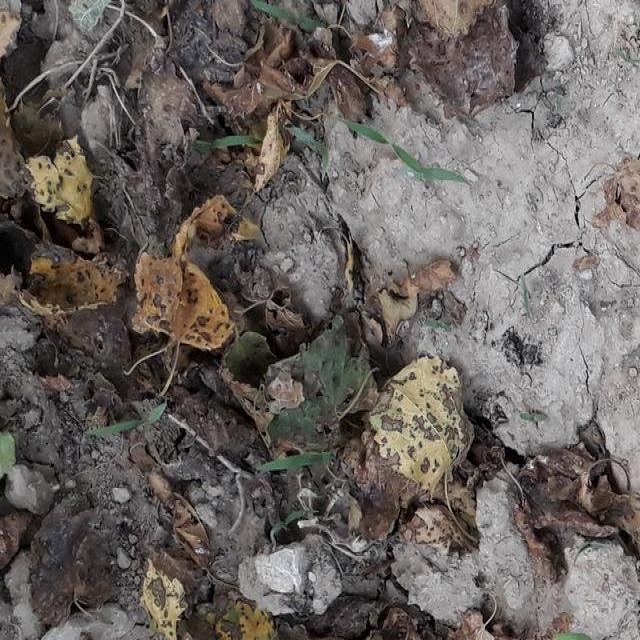weed: (396, 143, 463, 190), (260, 447, 348, 470), (256, 5, 330, 32), (98, 406, 174, 432), (286, 124, 326, 158), (339, 121, 388, 148), (201, 132, 261, 148)
